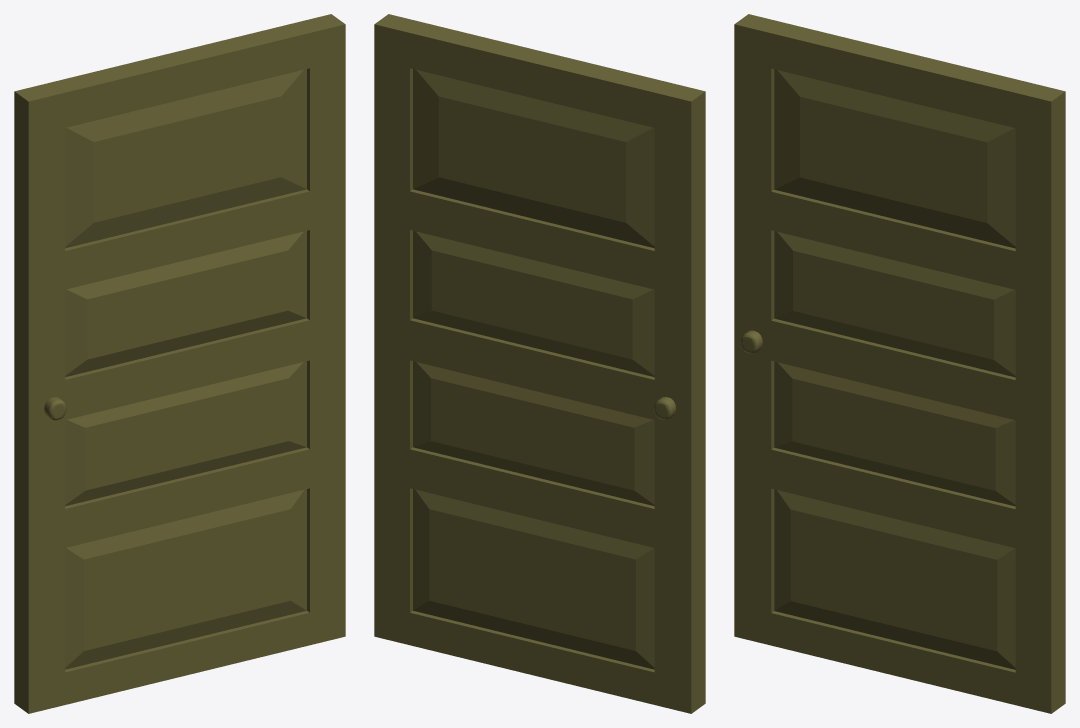
The model's file is FBX_Puerta_01.fbx.
3 views of the same model, side by side, from view 1: azimuth 30°, elevation 25°; view 2: azimuth 150°, elevation 25°; view 3: azimuth 330°, elevation 25° (orthographic).
Parts seen in each view (by area): view 1: pCube3; view 2: pCube3; view 3: pCube3.
Part boxes in pixels (x1=…): pCube3: x1=14, y1=14, x2=345, y2=713; pCube3: x1=374, y1=14, x2=705, y2=713; pCube3: x1=734, y1=14, x2=1065, y2=713.
Bounding box in the file's own units: 1.3 × 2.4 × 0.2154.
